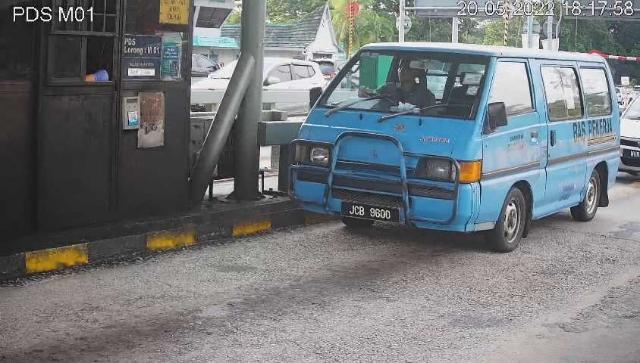License_Plate: (341, 202, 403, 229)
van: (288, 43, 622, 253)
